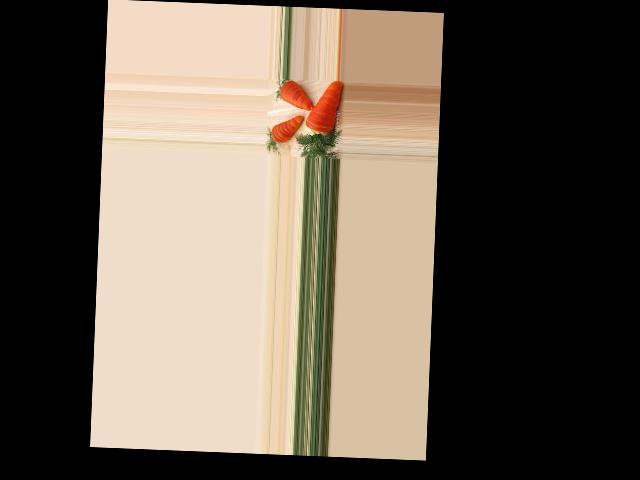carrot: (301, 79, 346, 138)
